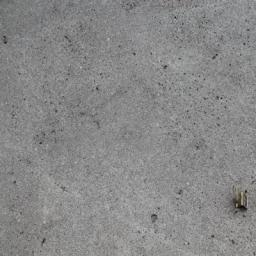FOD: (228, 183, 252, 212)
